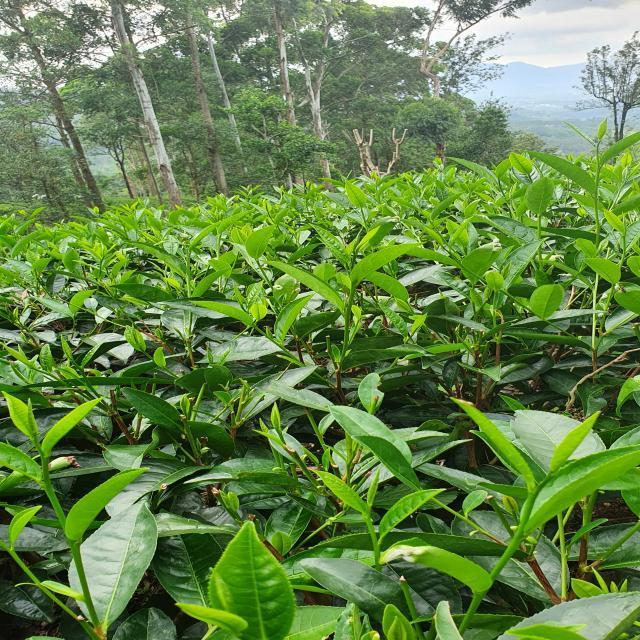Stem: (526, 492, 537, 503), (42, 458, 49, 467), (365, 515, 371, 523), (595, 147, 598, 150)
